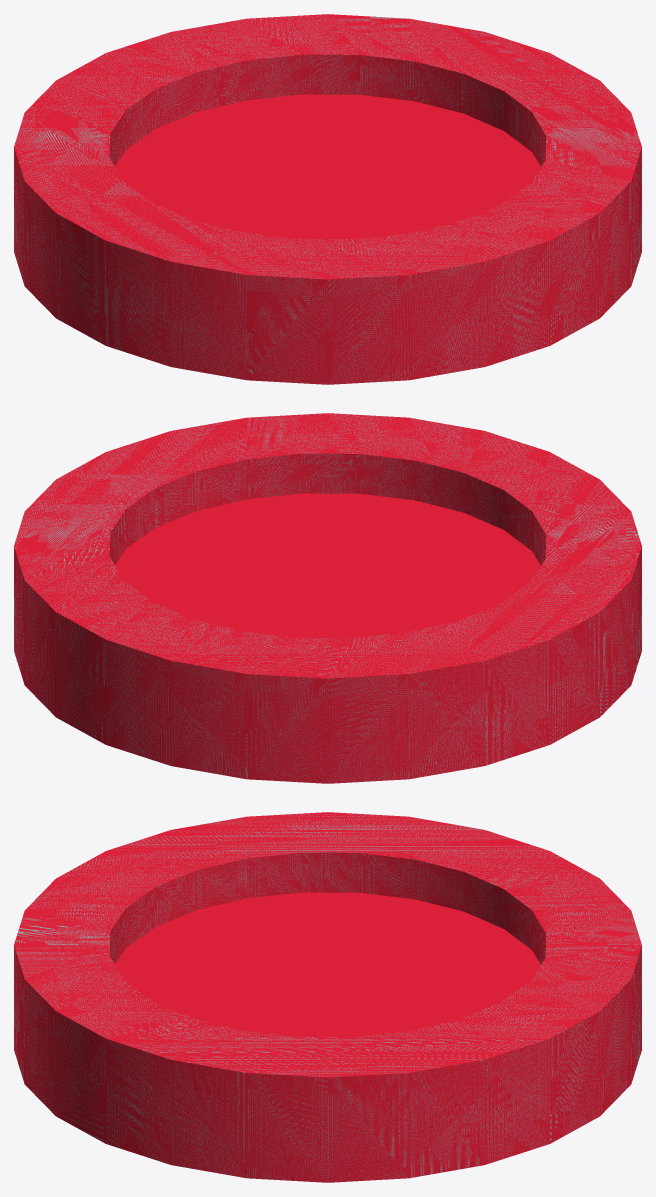
Rendered from RedPuc.dae.
3 views of the same model, one above another, from view 1: azimuth 30°, elevation 25°; view 2: azimuth 150°, elevation 25°; view 3: azimuth 270°, elevation 25° (orthographic).
Parts seen in each view (by area): view 1: SketchUp (×3); view 2: SketchUp (×3); view 3: SketchUp (×3).
Boxes of the visible parts, left/top/right/bottom form: SketchUp (×3): left=14, top=14, right=641, bottom=384; SketchUp (×3): left=14, top=413, right=641, bottom=783; SketchUp (×3): left=14, top=812, right=641, bottom=1182.
Bounding box in the file's own units: 78.74 × 78.74 × 14.57.
